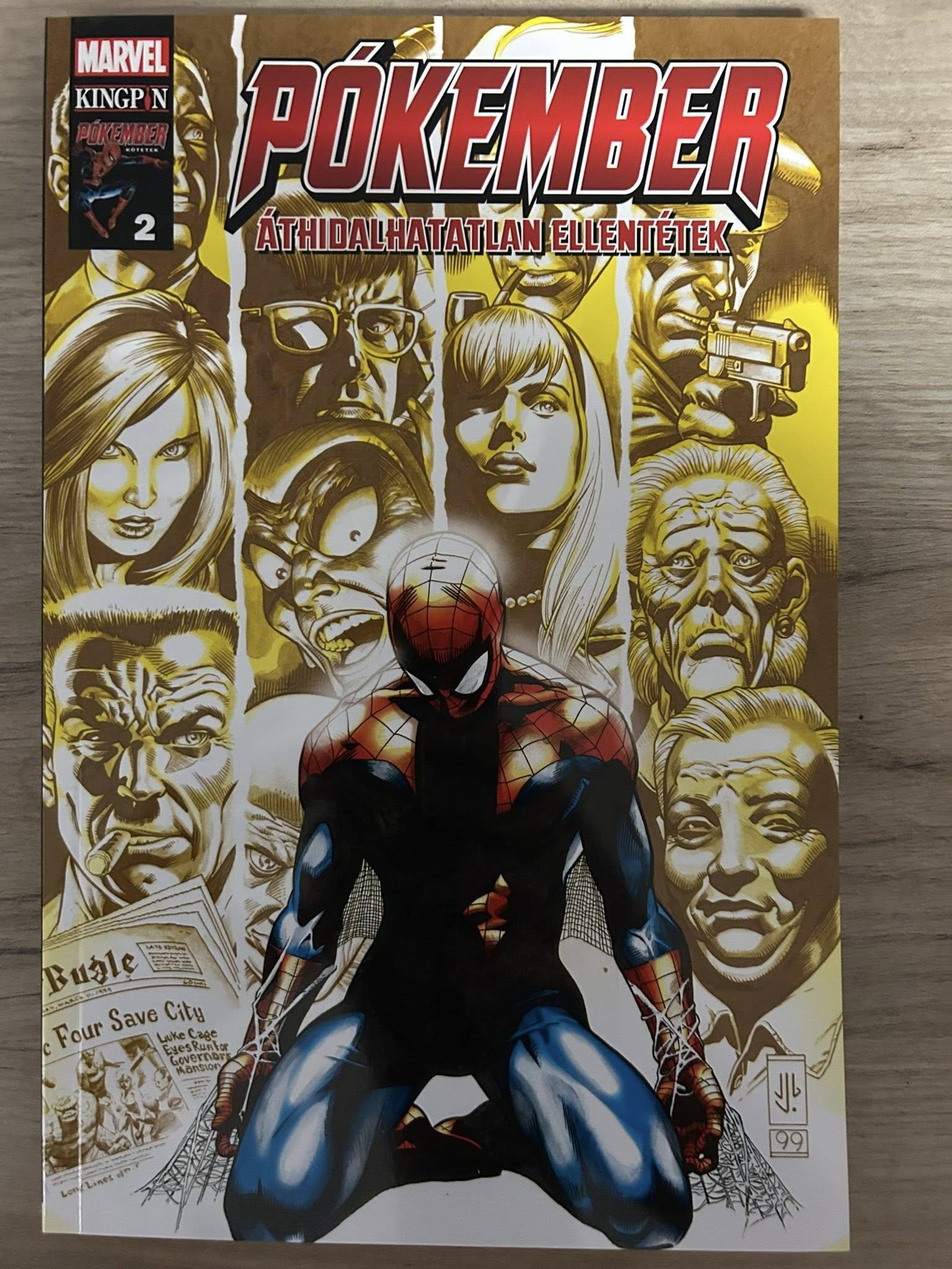comic: (42, 11, 849, 1251)
